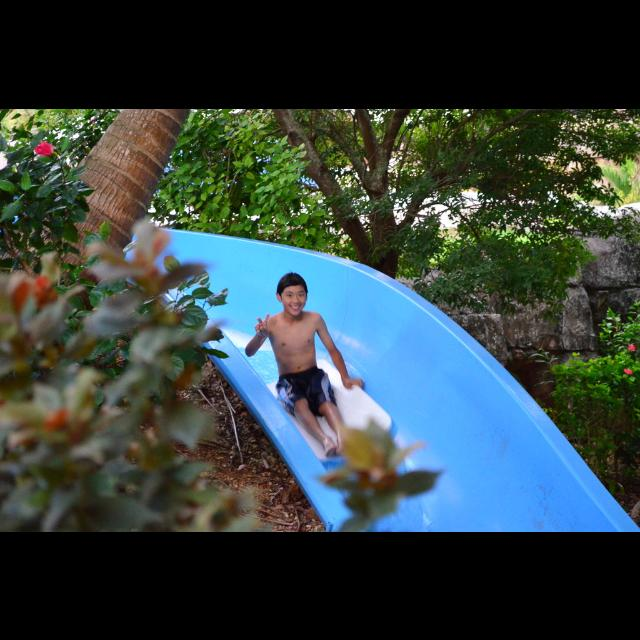Flower: (29, 140, 59, 156), (622, 366, 634, 378), (627, 343, 635, 351)
